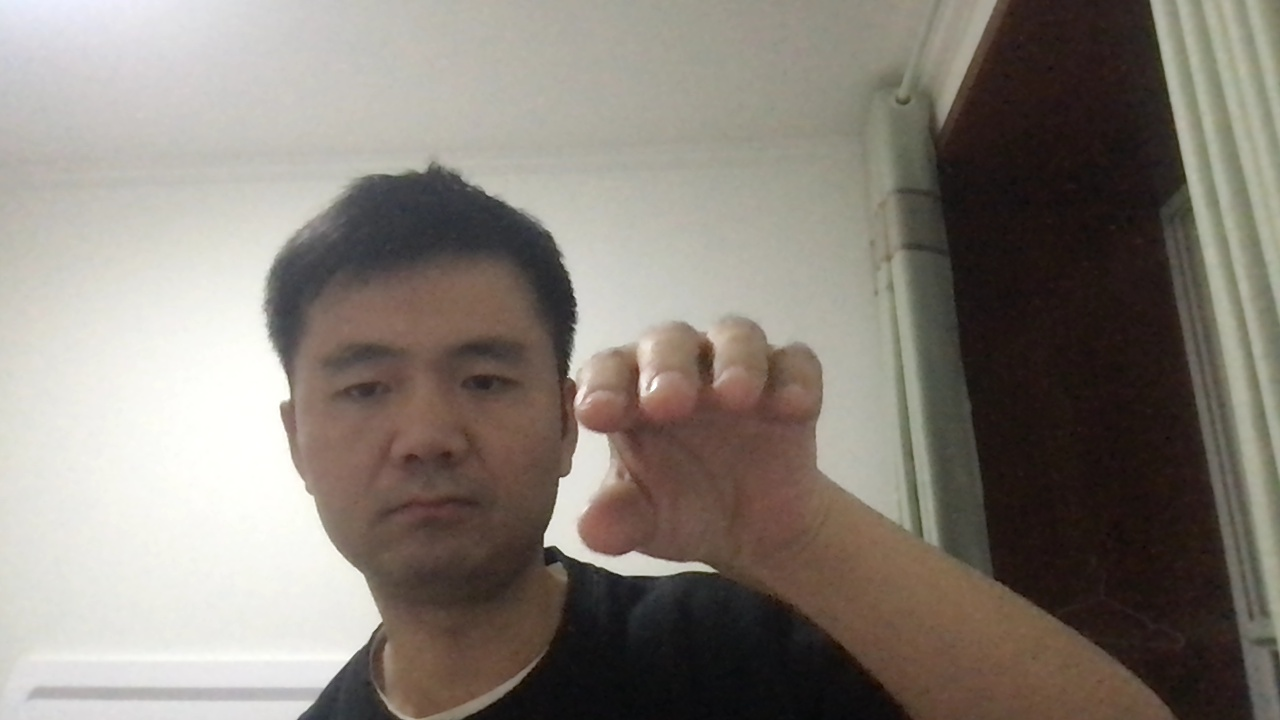no: (575, 318, 859, 556)
